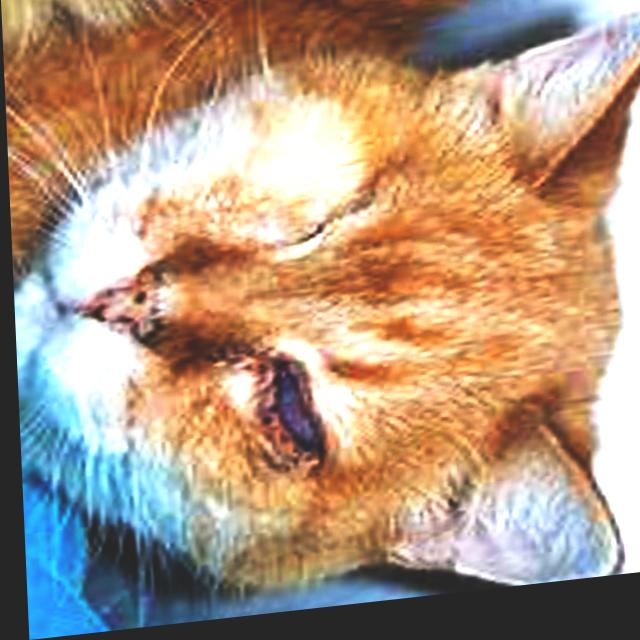eye_infection: (252, 360, 318, 460)
